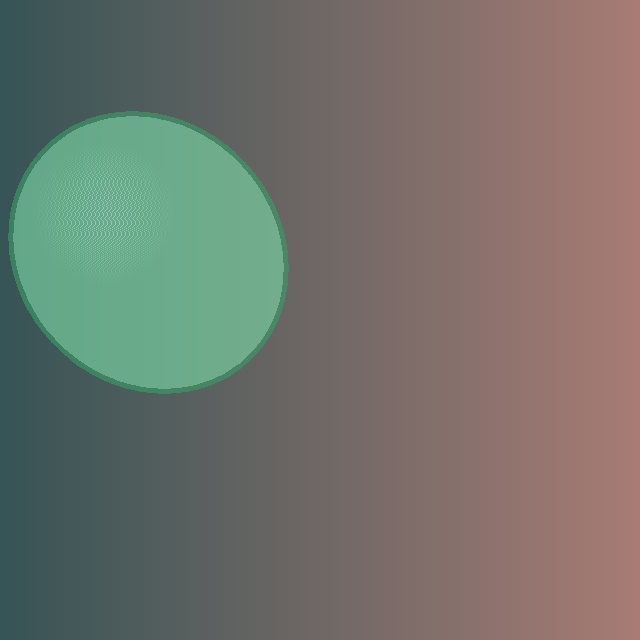lens: (10, 114, 286, 390)
